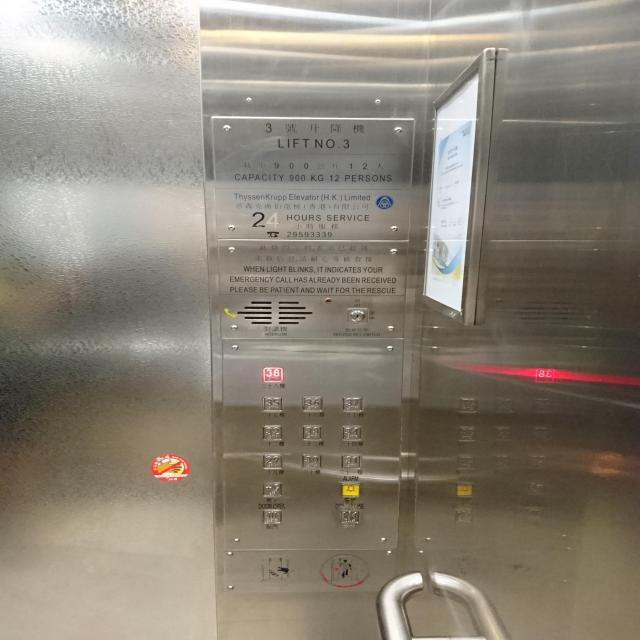29: (262, 453, 282, 469)
30: (302, 454, 322, 468)
31: (341, 453, 361, 469)
32: (262, 425, 283, 440)
33: (302, 424, 321, 441)
34: (342, 425, 362, 441)
35: (262, 395, 283, 412)
36: (302, 395, 322, 412)
37: (342, 396, 362, 412)
38: (262, 367, 283, 382)
alarm: (340, 482, 360, 497)
close: (340, 509, 359, 524)
keyhole: (346, 308, 368, 324)
open: (262, 509, 282, 525)
sG: (263, 482, 282, 497)
